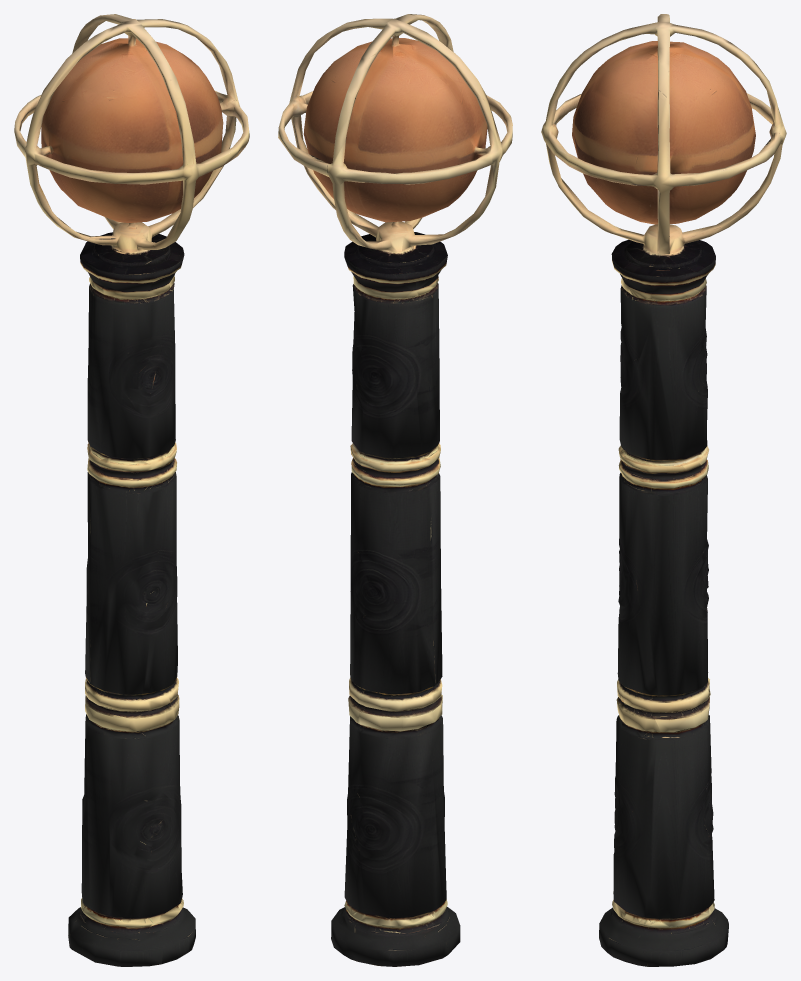
File: antena.glb
The picture shows the model from 3 angles, left to right: view 1: azimuth 30°, elevation 25°; view 2: azimuth 150°, elevation 25°; view 3: azimuth 270°, elevation 25°; orthographic projection.
Visible parts, largest first — view 1: Mesh1.0; view 2: Mesh1.0; view 3: Mesh1.0.
Part boxes in pixels (left/top/right/bottom): Mesh1.0: left=14, top=14, right=249, bottom=966; Mesh1.0: left=278, top=14, right=512, bottom=966; Mesh1.0: left=541, top=14, right=786, bottom=966.
Size of the model in its own units: 0.4583 by 1.9 by 0.4608.
1 material, 1 textured.
